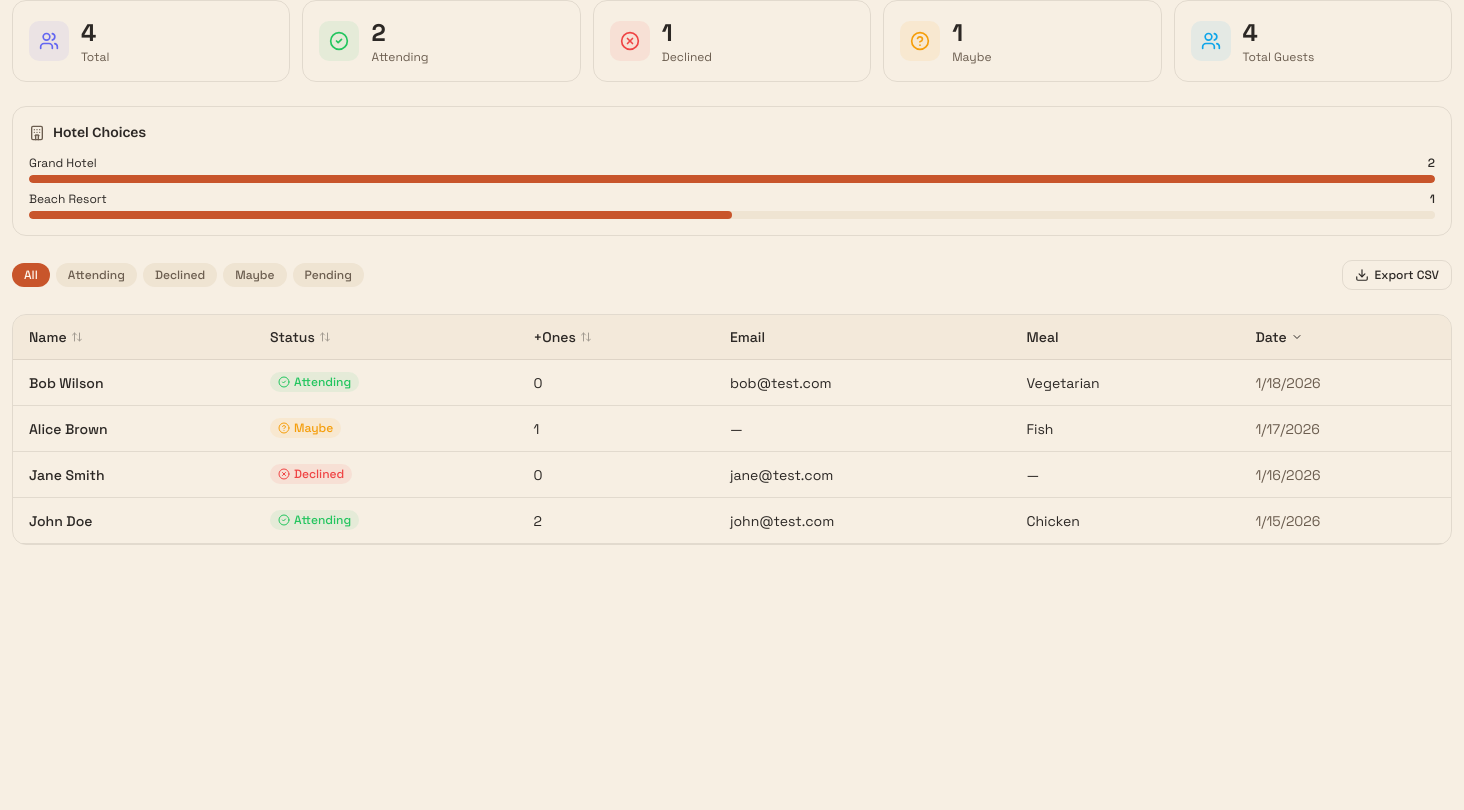
it: RSVPDashboard › hides detail when same row is clicked again
Expected: the element with test id "rsvp-table" is shown, [12,314,1452,545]
Click the row with test id "rsvp-row-rsvp-1": [732, 520] box [13,498,1451,544]
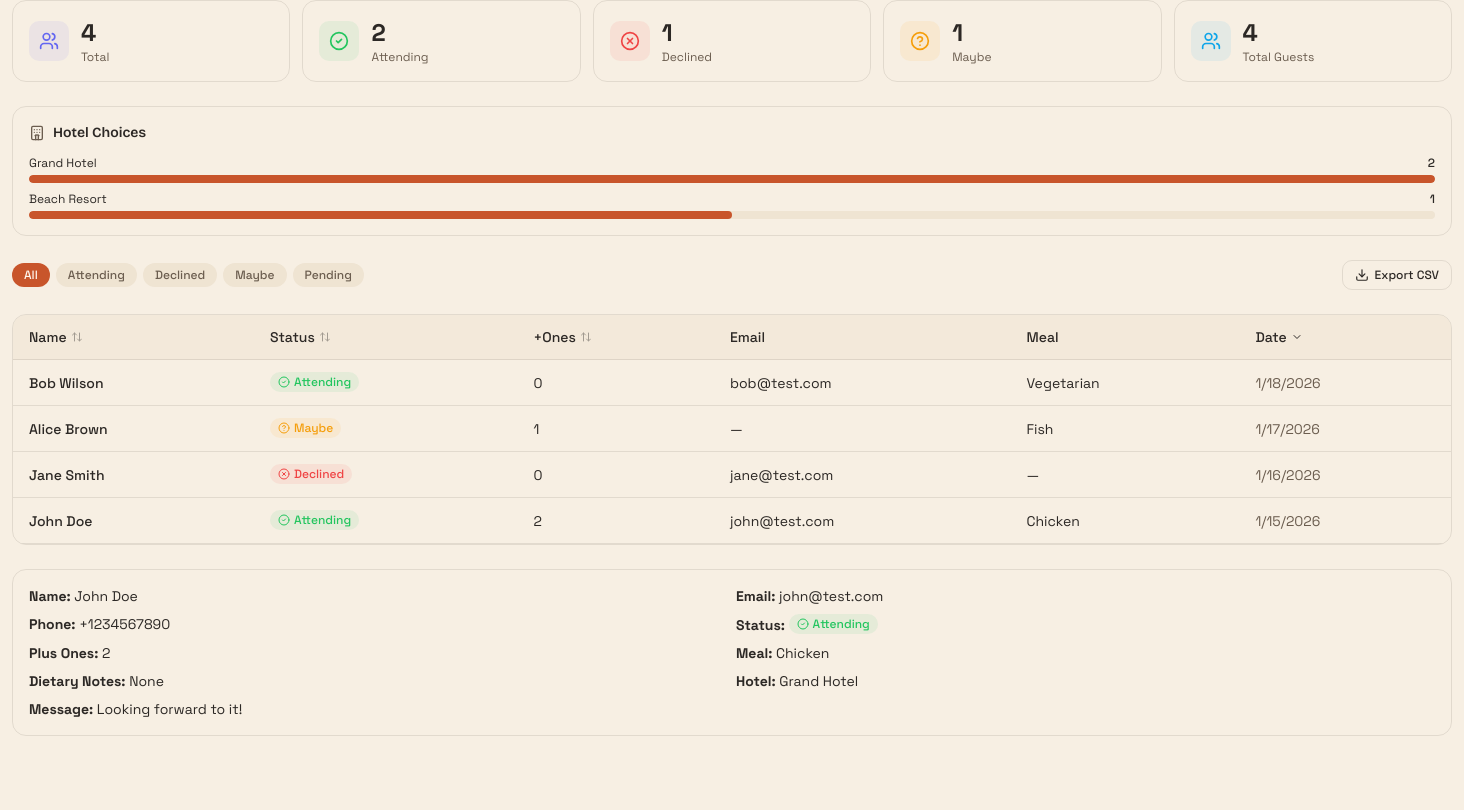
Now the element with test id "rsvp-detail" is shown, box [12,569,1452,736]
Click the row with test id "rsvp-row-rsvp-1": [732, 520] box [13,498,1451,544]
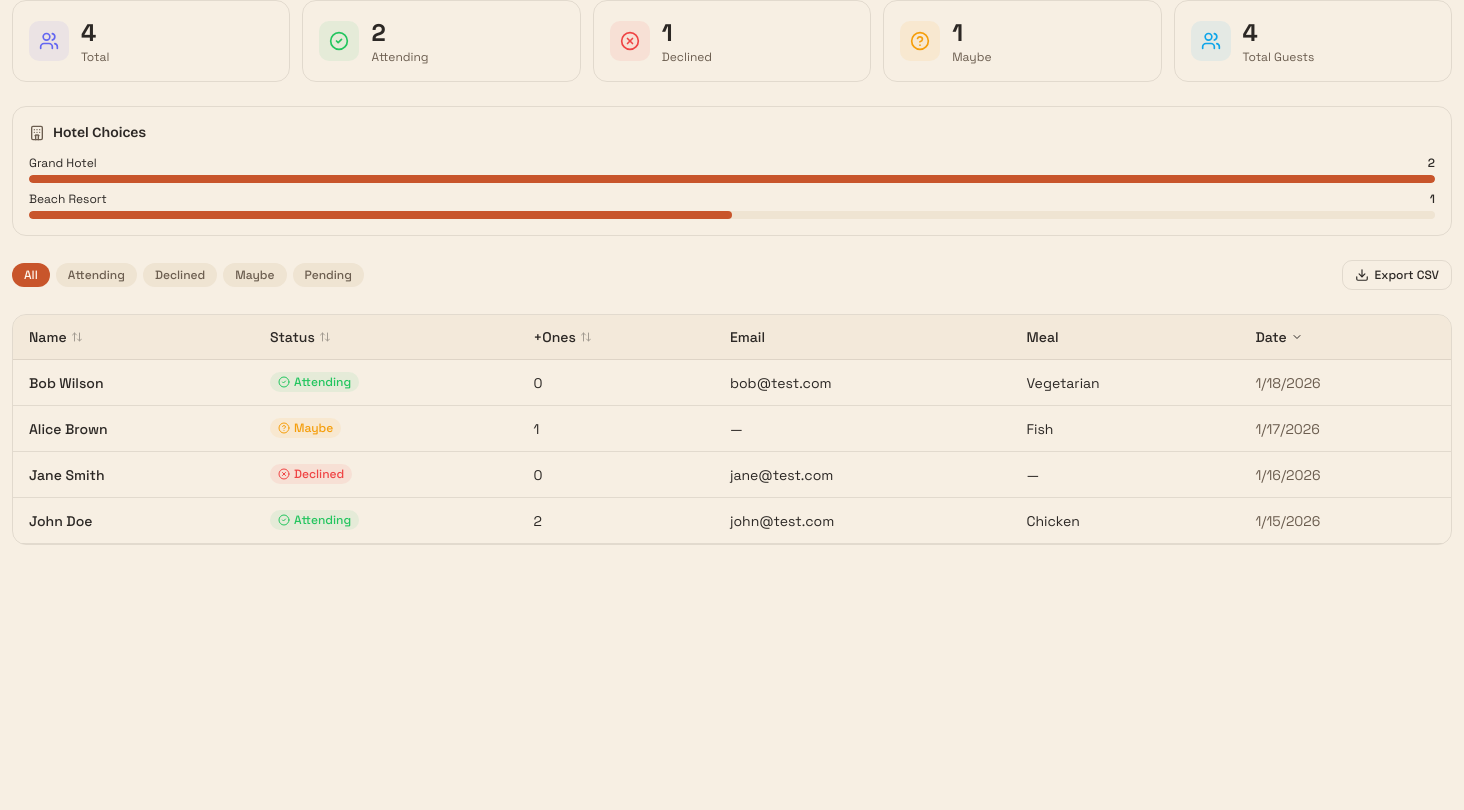
Now the element with test id "rsvp-detail" is gone
